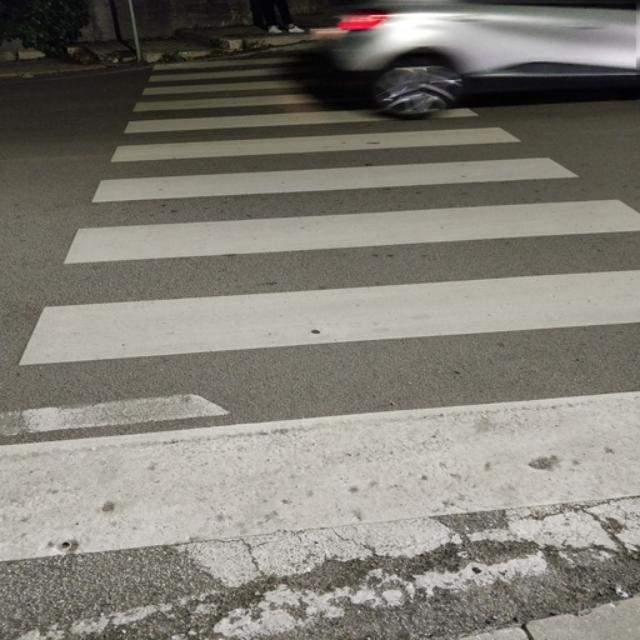sidewalk: (6, 49, 639, 565)
